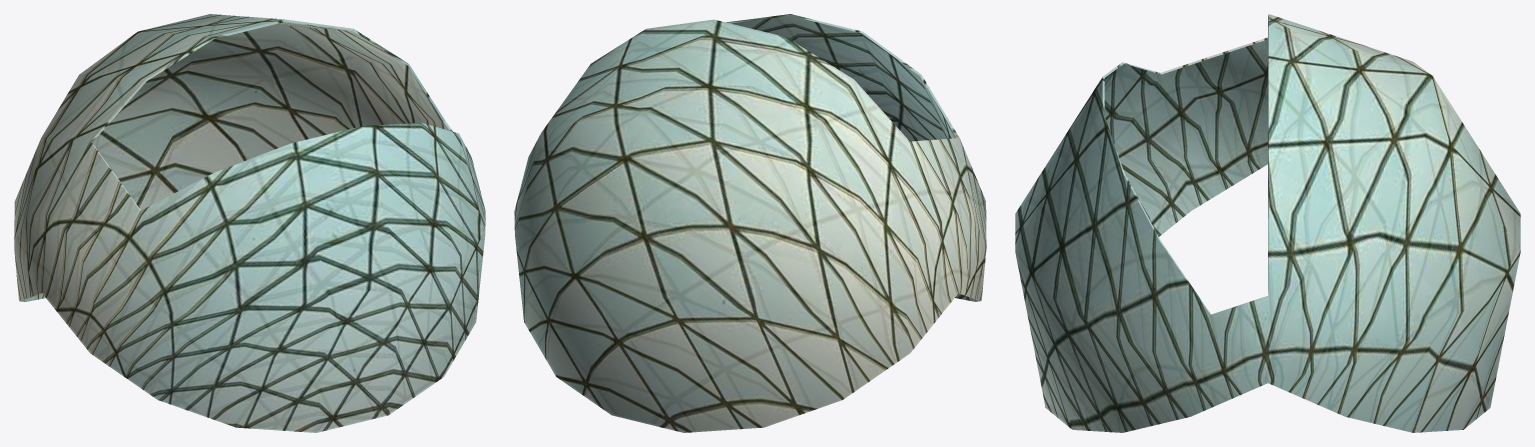
File: space objervatory.fbx
3 renders of one model, left to right at view 1: azimuth 30°, elevation 25°; view 2: azimuth 150°, elevation 25°; view 3: azimuth 270°, elevation 25°, orthographic. The views are drawn at different scales.
Parts seen in each view (by area): view 1: space_obj_glass; view 2: space_obj_glass; view 3: space_obj_glass.
Part boxes in pixels (box(x1,y1,x2,y2)): space_obj_glass: box(14, 14, 485, 432); space_obj_glass: box(514, 14, 986, 432); space_obj_glass: box(1015, 14, 1520, 432).
Bounding box in the file's own units: 817 × 602 × 792.
